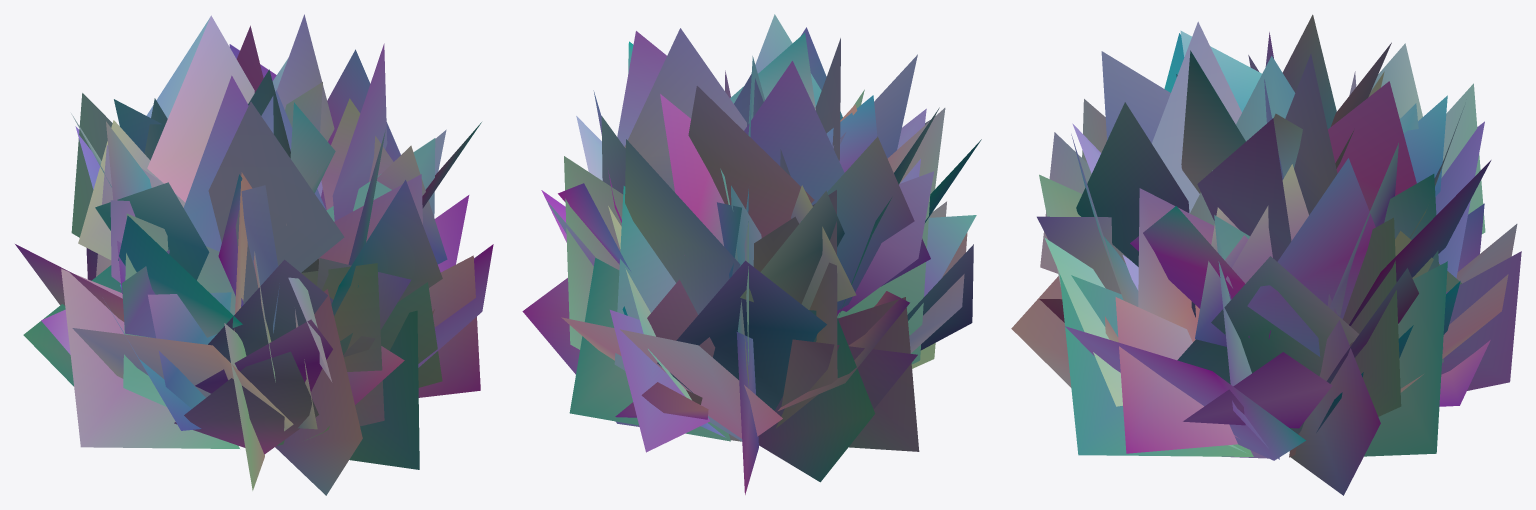
3 views of the same model, side by side, from view 1: azimuth 30°, elevation 25°; view 2: azimuth 150°, elevation 25°; view 3: azimuth 270°, elevation 25° (orthographic). The views are drawn at different scales.
Parts seen in each view (by area): view 1: SM_BS_Buxus_Dam_200cm; view 2: SM_BS_Buxus_Dam_200cm; view 3: SM_BS_Buxus_Dam_200cm.
Boxes of the visible parts, x1,y1,x2,y2 form: SM_BS_Buxus_Dam_200cm: (15, 14, 493, 495); SM_BS_Buxus_Dam_200cm: (522, 14, 981, 494); SM_BS_Buxus_Dam_200cm: (1011, 14, 1521, 495).
Size of the model in its own units: 75.17 by 74.09 by 70.27.
